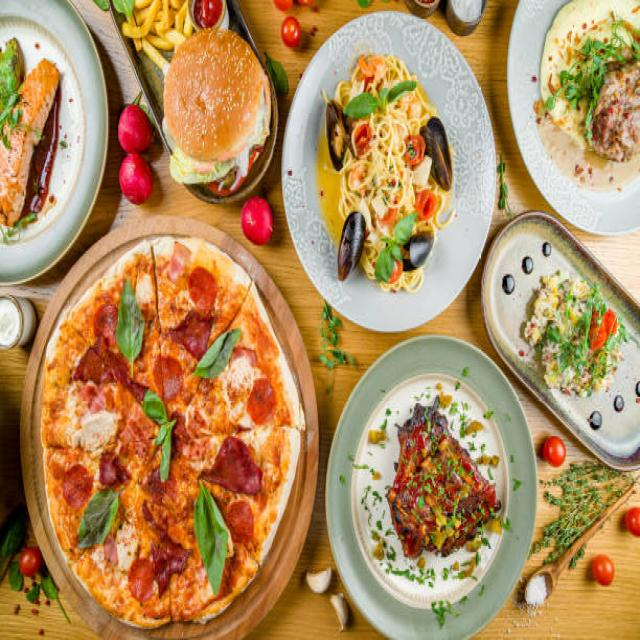burger: (163, 28, 272, 190)
